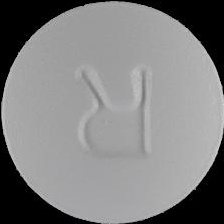61786-052: (0, 0, 224, 224)
